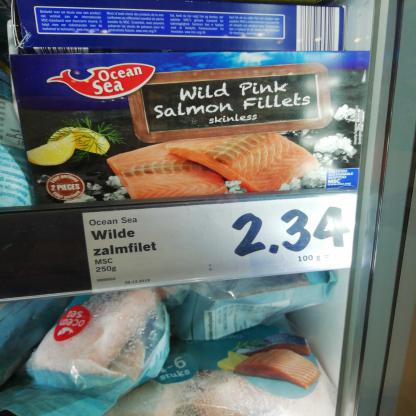prtg: (82, 195, 359, 294)
